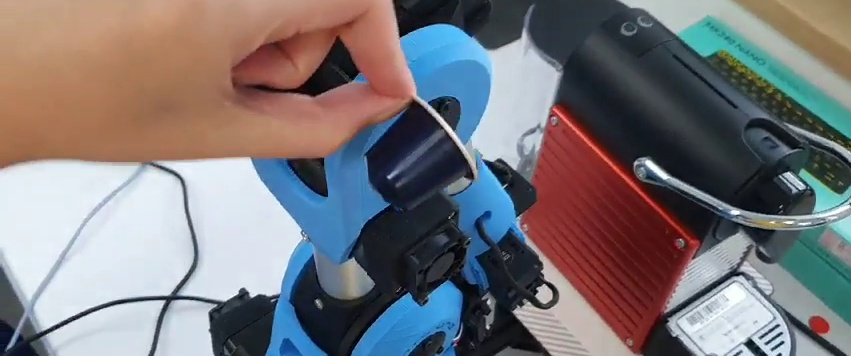capsule_1: (364, 92, 481, 209)
